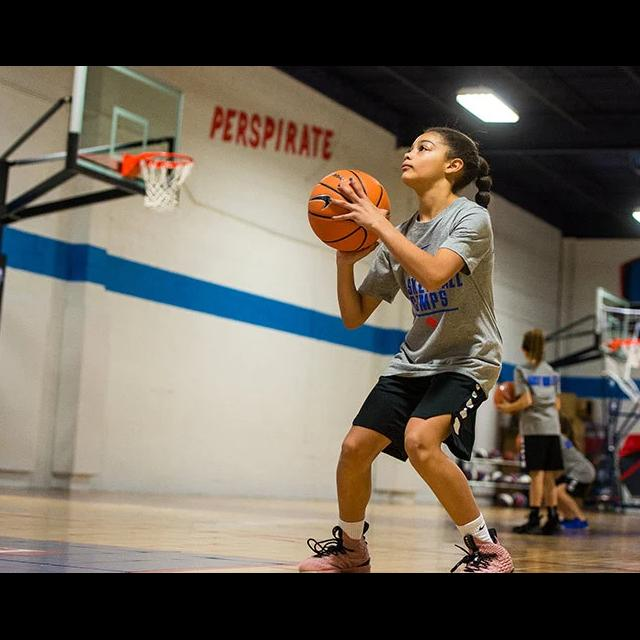basketball: (308, 170, 389, 253), (494, 381, 518, 411)
hoop: (136, 150, 191, 212), (617, 338, 640, 363)
